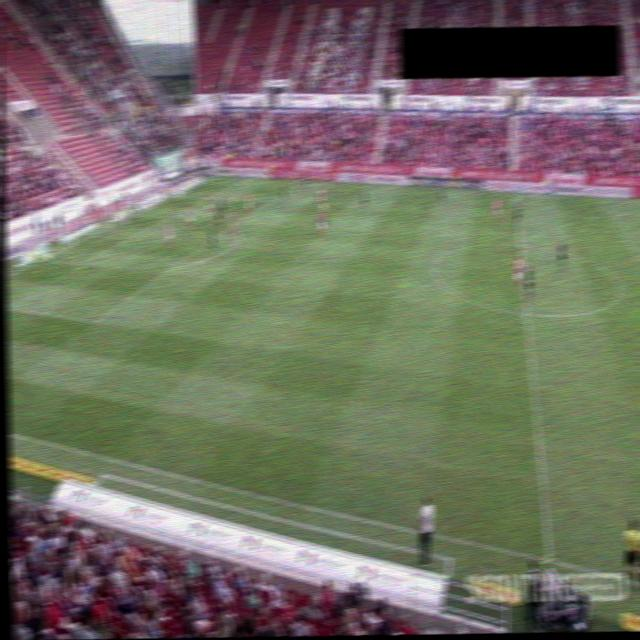bigarea_bottom_inner: (88, 315, 105, 327)
bigarea_top_inner: (261, 194, 276, 206)
bigarea_top_outter: (169, 190, 183, 202)
bottom_arc_area_intersection: (167, 259, 182, 272)
corner: (206, 173, 221, 184)
halfcircle_bottom: (520, 308, 534, 319)
halfcircle_top: (512, 238, 527, 250)
midline_bottom_intersection: (541, 554, 556, 568)
midline_top_intersection: (507, 188, 522, 201)
smallarea_bottom_inner: (73, 259, 88, 270)
smallarea_bottom_outter: (32, 254, 51, 268)
smallarea_top_inner: (158, 212, 174, 223)
smallarea_top_outter: (128, 209, 143, 221)
top_arc_area_intersection: (224, 221, 239, 233)
